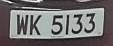1: (64, 12, 72, 37)
3: (71, 12, 84, 37), (84, 12, 97, 36)
5: (50, 13, 65, 38)
K: (29, 13, 43, 39)
W: (13, 11, 30, 38)
